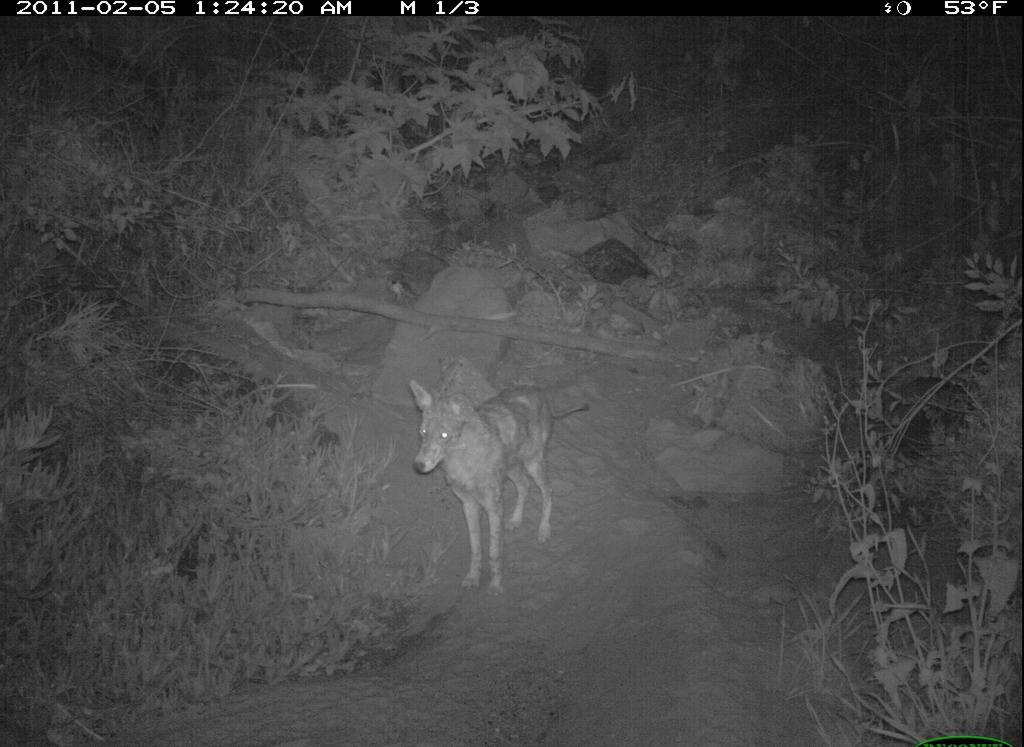coyote: (390, 369, 591, 606)
